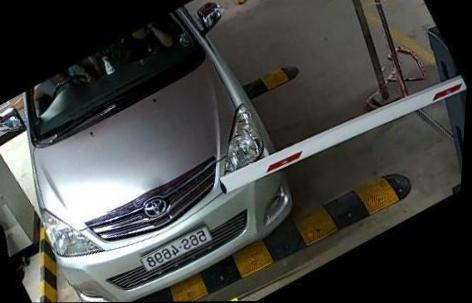License_Plate: (134, 224, 213, 276)
